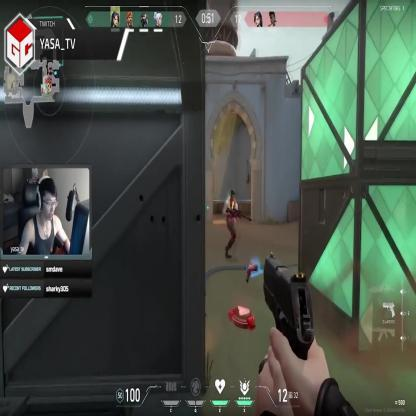enemy: (222, 190, 238, 260)
enemy_head: (230, 190, 235, 202)
